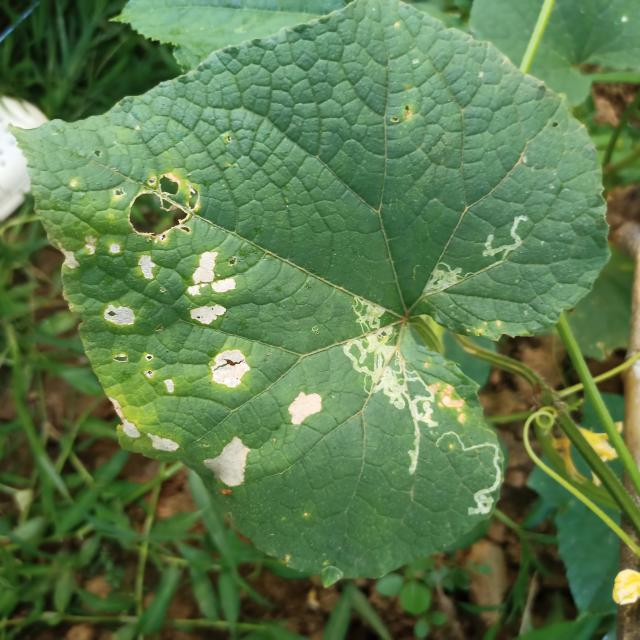disease_cucumber: (44, 175, 330, 494)
